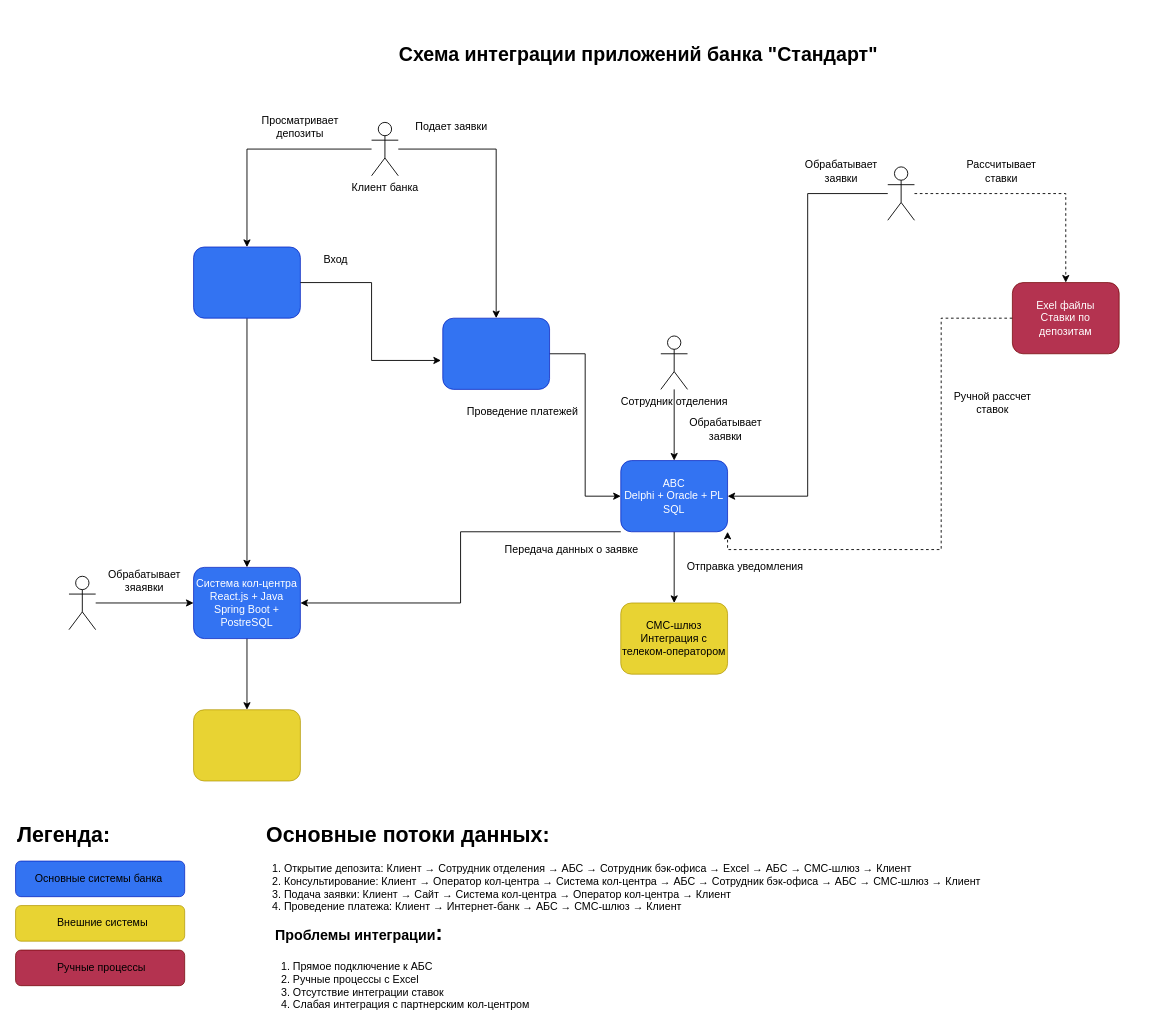
This 1161x1034 diagram has some shape labels left out. The shapes that lost their labels are listed below. From the top down, each one's box as (x1, y1, x2, y2) in pixels, then its label:
(887, 166, 914, 220): Сотрудник бэк-офиса
(193, 246, 300, 318): Сайт банка PHP + React.js
(442, 317, 550, 389): Интернет-банк ASP.NET MVC 4.5 + MS SQL
(68, 575, 96, 630): Сотрудник кол-центра
(193, 709, 300, 781): Партнерский кол-центр Внешняя система
